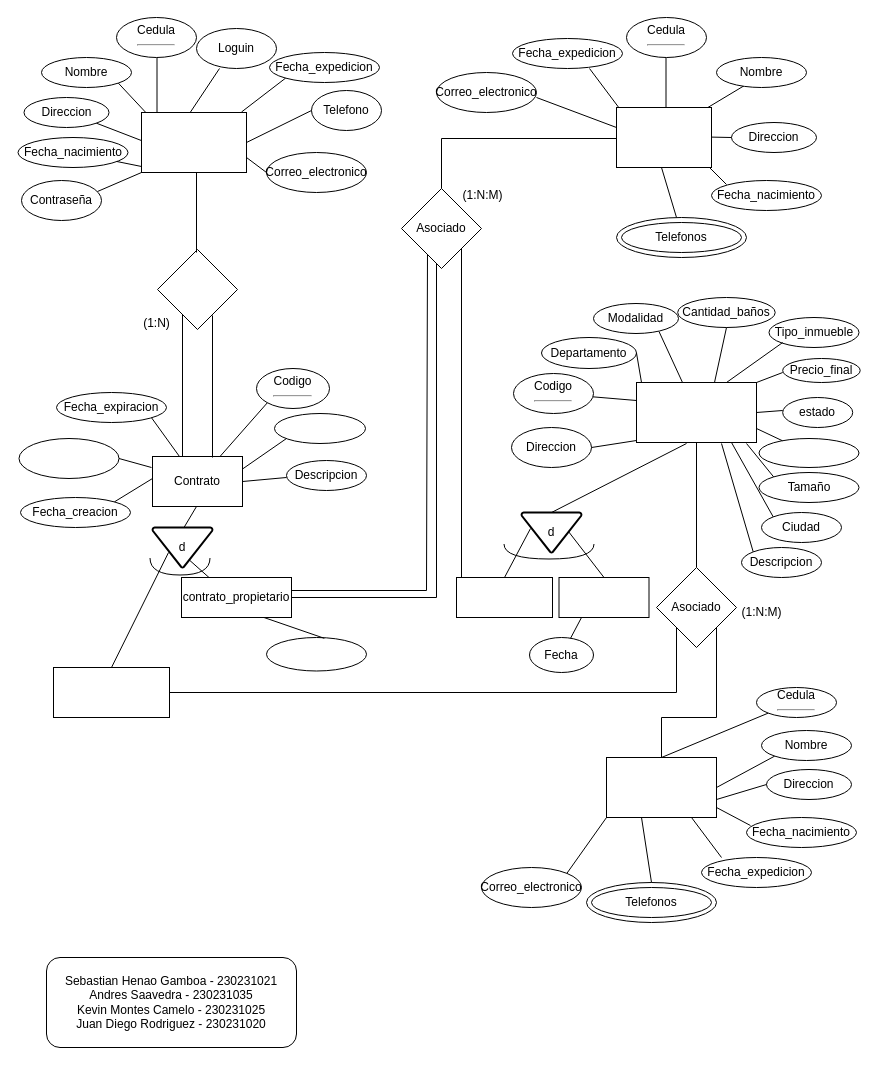
Image size: 878x1065. Some labels were removed from this diagram. The centre of each missing label's shape, as x and y in pixels:
"Agente Comercial" belongs at (193,142).
"Cliente" belongs at (661,787).
"contrato_cliente" belongs at (111,692).
"Foto_inmueble" belongs at (808,453).
"Gestiona" belongs at (197,289).
"Inmueble" belongs at (696,412).
"Inmueble con propietario" belongs at (504,597).
"Inmueble en propiedad" belongs at (603,597).
"Porcentaje_comision" belongs at (316,653).
"Propietario" belongs at (664,137).
"Tipo_contrato" belongs at (68,458).
"Valor_venta" belongs at (320,428).
